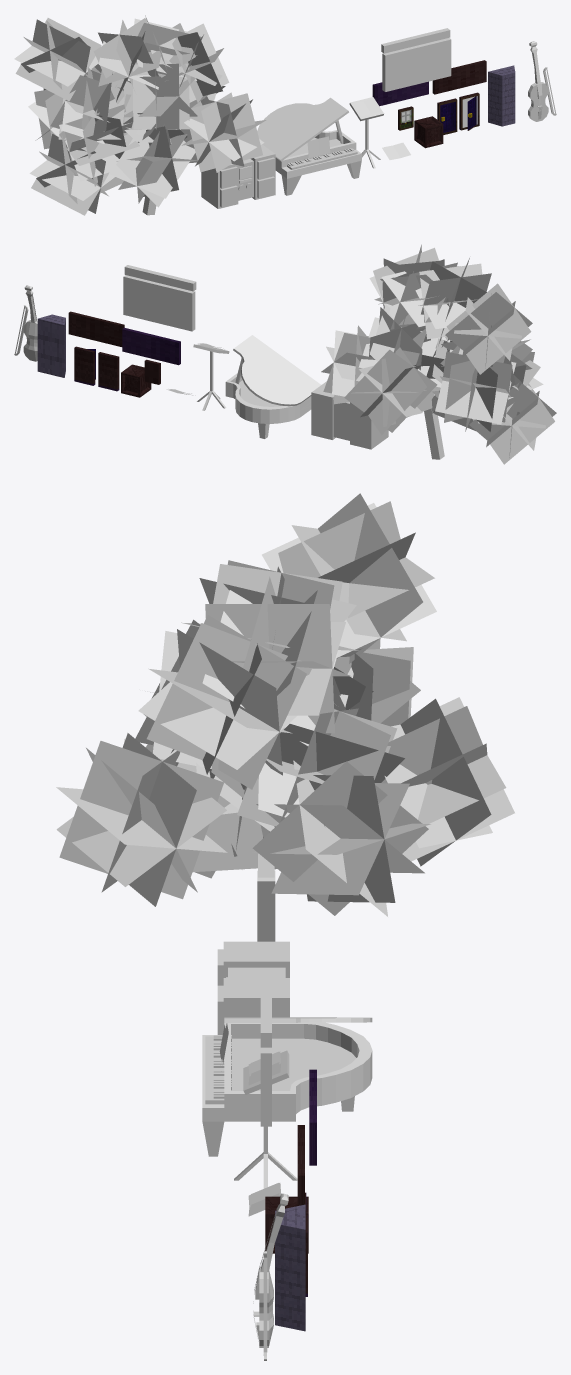
Rendered from Sleepy_AssetPack_2--1.fbx.
The picture shows the model from 3 angles, top to bottom: view 1: azimuth 30°, elevation 25°; view 2: azimuth 150°, elevation 25°; view 3: azimuth 270°, elevation 25°; orthographic projection. The views are drawn at different scales.
Parts seen in each view (by area): view 1: Cube, Cube.011, Cube.012, Cube.004, Cube.006, Cube.013, Cube.009, Cube.001, Cube.007, Cube.008, Cube.010, Cube.003 (+3 smaller); view 2: Cube, Cube.011, Cube.004, Cube.012, Cube.006, Cube.001, Cube.009, Cube.013, Cube.010, Cube.002, Cube.003, Cube.007 (+2 smaller); view 3: Cube, Cube.011, Cube.012, Cube.006, Cube.013, Cube.008.
Boxes of the visible parts, x1,y1,x2,y2 form: Cube: [14, 15, 266, 215]; Cube.011: [257, 97, 361, 195]; Cube.012: [201, 144, 275, 208]; Cube.004: [382, 38, 451, 91]; Cube.006: [488, 65, 515, 126]; Cube.013: [528, 41, 556, 121]; Cube.009: [432, 60, 486, 94]; Cube.001: [372, 81, 428, 106]; Cube.007: [414, 116, 443, 148]; Cube.008: [349, 97, 383, 168]; Cube.010: [381, 28, 450, 53]; Cube.003: [437, 98, 457, 134]; Cube: [321, 244, 556, 464]; Cube.011: [225, 335, 320, 438]; Cube.004: [123, 275, 195, 331]; Cube.012: [311, 381, 388, 449]; Cube.006: [37, 314, 65, 377]; Cube.001: [122, 327, 180, 365]; Cube.009: [68, 311, 124, 346]; Cube.013: [14, 285, 37, 361]; Cube.010: [124, 265, 196, 291]; Cube.002: [74, 346, 95, 385]; Cube.003: [98, 352, 119, 391]; Cube.007: [121, 364, 151, 397]; Cube: [56, 493, 514, 941]; Cube.011: [202, 1017, 372, 1156]; Cube.012: [217, 941, 289, 1034]; Cube.006: [275, 1204, 305, 1331]; Cube.013: [253, 1193, 288, 1360]; Cube.008: [234, 1050, 297, 1188].
Size of the model in its own units: 13296 by 4841 by 5083.
